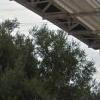Tree: (6, 18, 92, 97)
